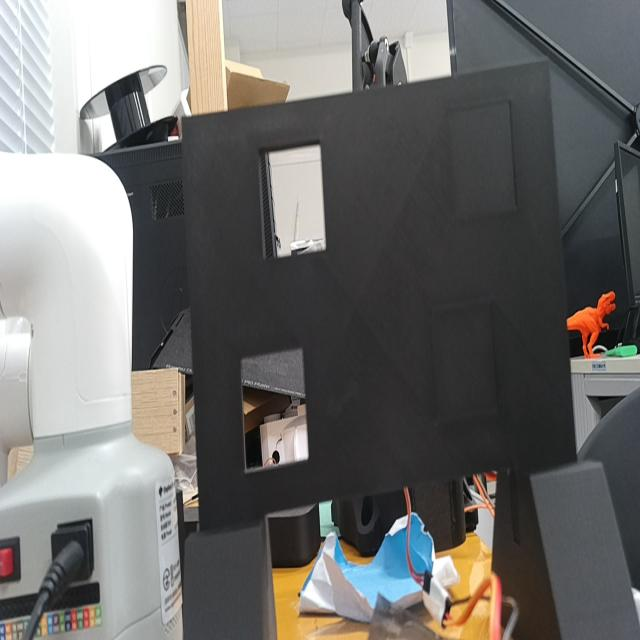Obstacle: (242, 350, 308, 472), (260, 145, 328, 257)
Wall: (181, 61, 578, 533)
